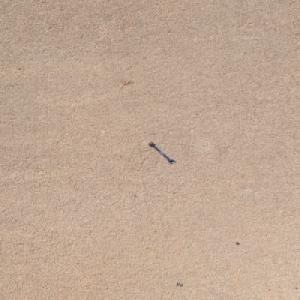Wrench: (148, 142, 176, 163)
